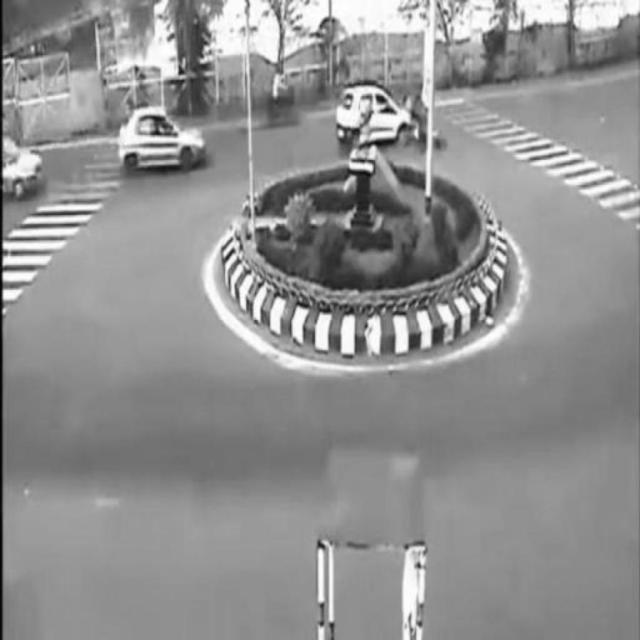accident: (340, 87, 443, 155)
vehicle: (119, 108, 207, 170)
